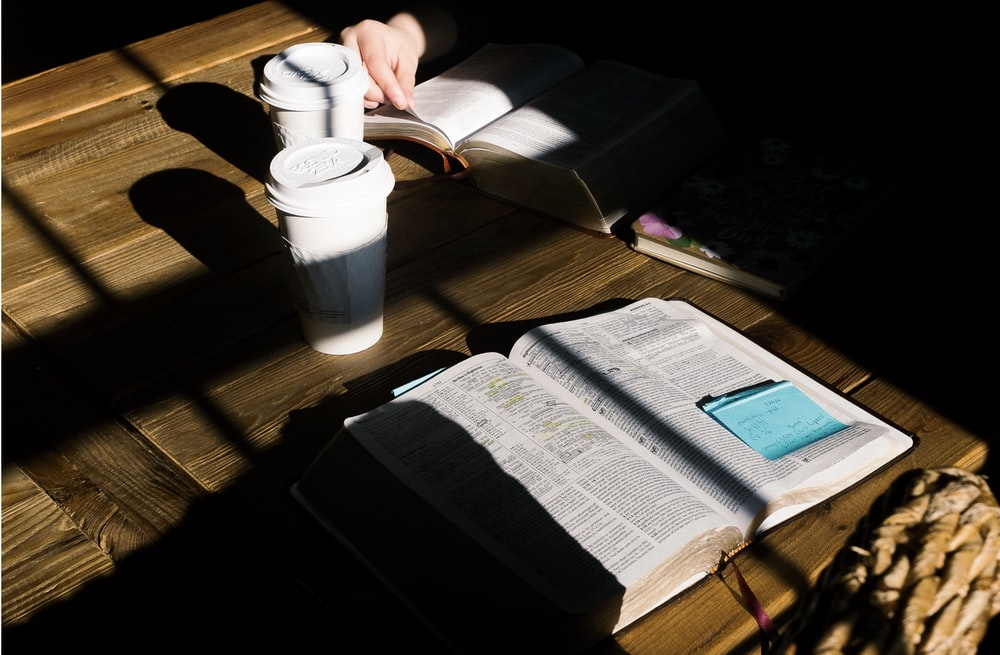Open Book: (326, 315, 903, 609)
